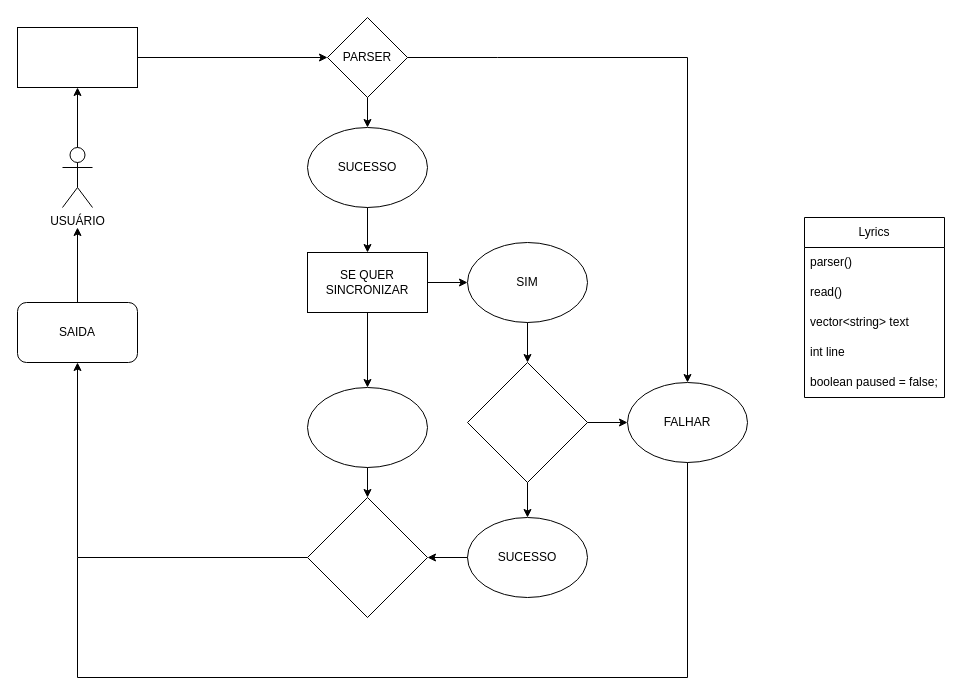
The diagram is 962 pixels wide and 696 high, and some of its shapes have lost their labels. The shapes that lost their labels are listed below. From the top down, each one's centre as x and y in pixels, then its label:
At (77,57): "TEXTO".
At (367,427): "NÃO".
At (527,422): "SINCRONIZAR".
At (367,557): "LER".
